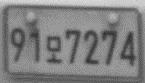1: (29, 27, 42, 64)
2: (83, 29, 100, 66)
4: (119, 31, 137, 67)
7: (63, 28, 81, 65), (100, 29, 118, 66)
9: (8, 26, 26, 63)
모: (45, 34, 62, 64)
